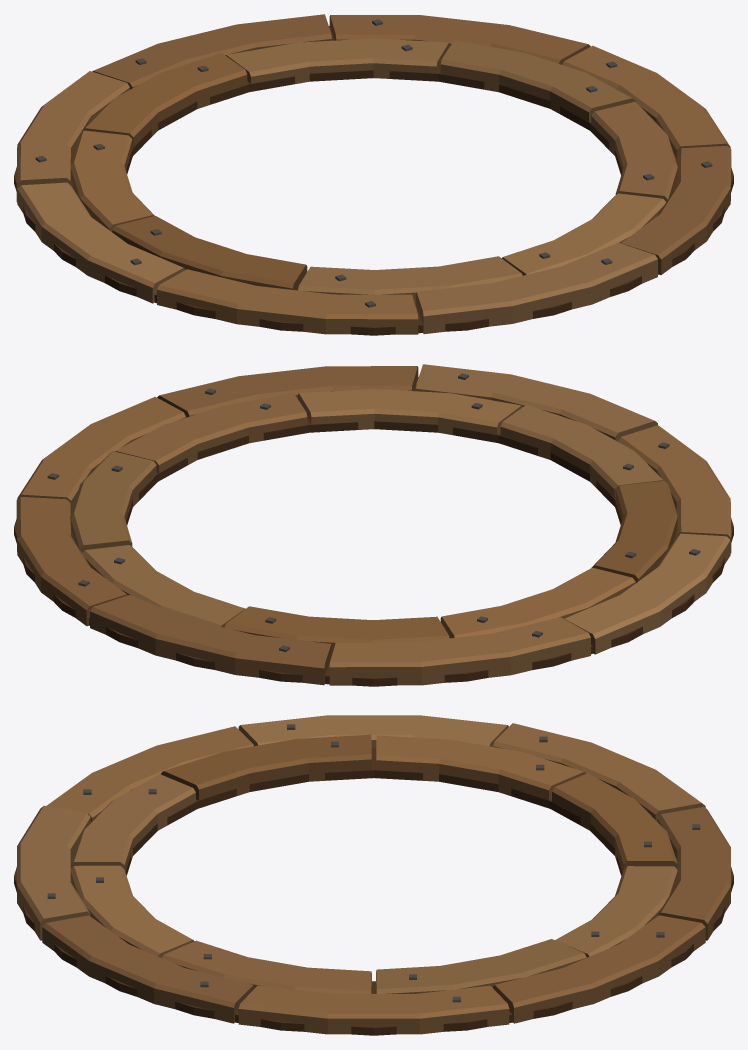
Rendered from habitat_frame_1.fbx.
3 views of the same model, one above another, from view 1: azimuth 30°, elevation 25°; view 2: azimuth 150°, elevation 25°; view 3: azimuth 270°, elevation 25° (orthographic).
Visible parts, largest first — view 1: habitat_frame_1; view 2: habitat_frame_1; view 3: habitat_frame_1.
Part boxes in pixels (x1=…): habitat_frame_1: x1=14, y1=14, x2=733, y2=335; habitat_frame_1: x1=14, y1=364, x2=733, y2=686; habitat_frame_1: x1=14, y1=715, x2=733, y2=1035.
Size of the model in its own units: 7.5 by 0.2801 by 7.5.
